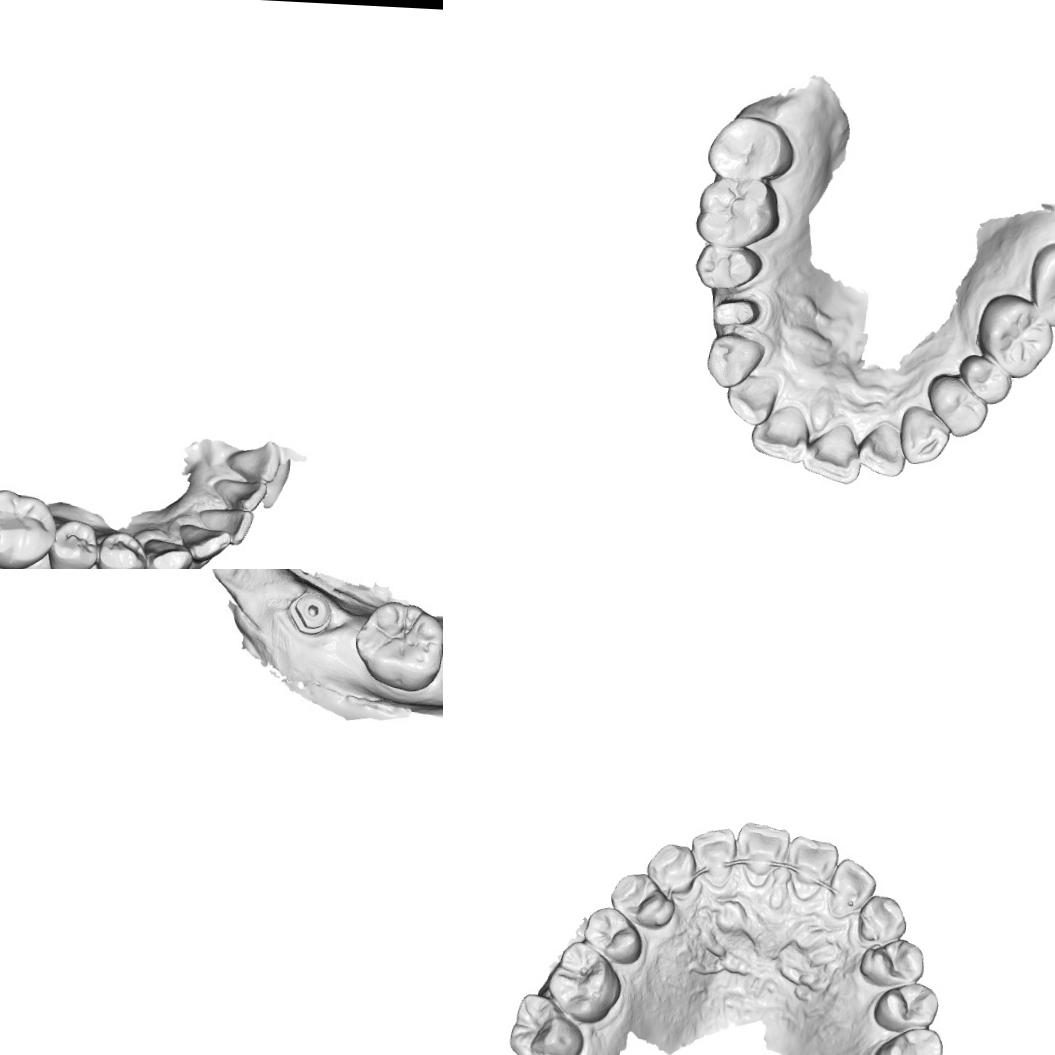canine: (704, 328, 767, 390), (896, 402, 952, 467), (852, 891, 910, 948), (643, 839, 696, 898), (138, 535, 195, 569)
crown: (710, 291, 769, 329)
implant: (281, 586, 338, 640)
incisor: (732, 819, 792, 890), (748, 400, 812, 464), (802, 420, 863, 486), (784, 833, 841, 902), (824, 854, 878, 920), (686, 824, 739, 890), (856, 418, 908, 479), (724, 372, 779, 426), (221, 436, 282, 484), (195, 504, 255, 546), (178, 522, 233, 564), (210, 476, 269, 513)
molar: (358, 598, 443, 692), (974, 289, 1055, 380), (542, 938, 625, 1026), (693, 174, 782, 252), (704, 113, 796, 184), (505, 990, 585, 1055), (0, 485, 58, 569), (1026, 239, 1055, 330), (867, 1024, 947, 1055)
premolar: (924, 370, 991, 438), (578, 903, 647, 966), (606, 869, 677, 930), (870, 978, 940, 1034), (856, 935, 927, 990), (694, 241, 764, 292), (956, 351, 1014, 406), (49, 517, 99, 569), (93, 528, 147, 569)
